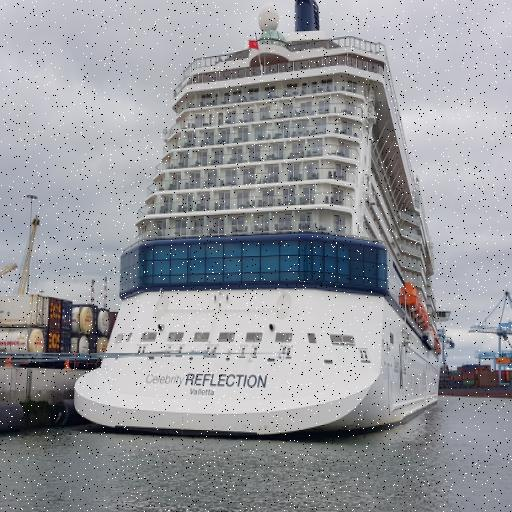cruises: (70, 1, 453, 452)
